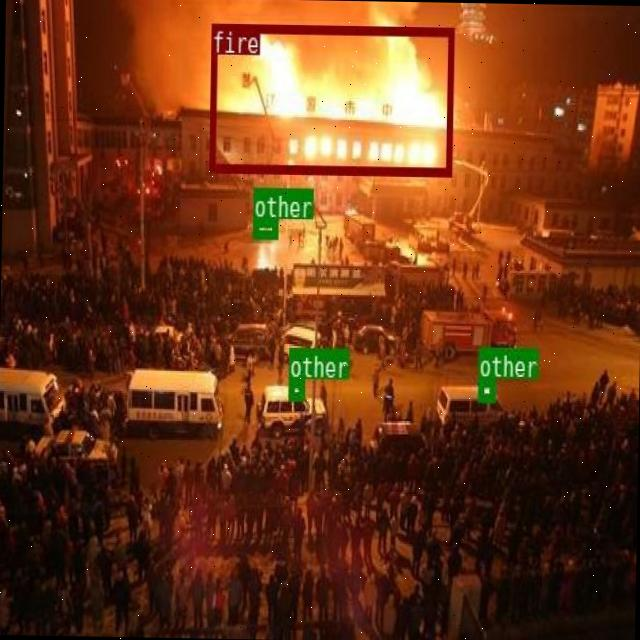fire: (207, 22, 453, 174)
